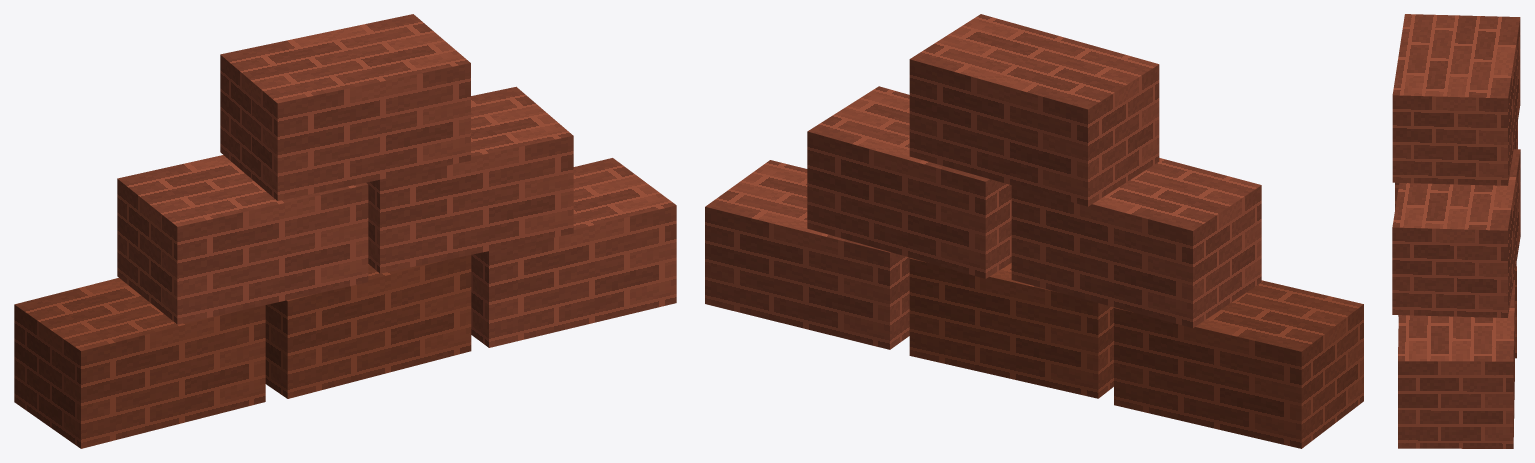
File: ladrillos.glb
3 renders of one model, left to right at view 1: azimuth 30°, elevation 25°; view 2: azimuth 150°, elevation 25°; view 3: azimuth 270°, elevation 25°, orthographic. The views are drawn at different scales.
Visible parts, largest first — view 1: ladrillos; view 2: ladrillos; view 3: ladrillos.
Boxes of the visible parts, <box> form: ladrillos: <box>14,14,676,448</box>; ladrillos: <box>705,14,1363,448</box>; ladrillos: <box>1392,14,1520,448</box>.
Bounding box in the file's own units: 3.21 × 1.5 × 0.6646.
Materials: 2 (2 with a texture image).
